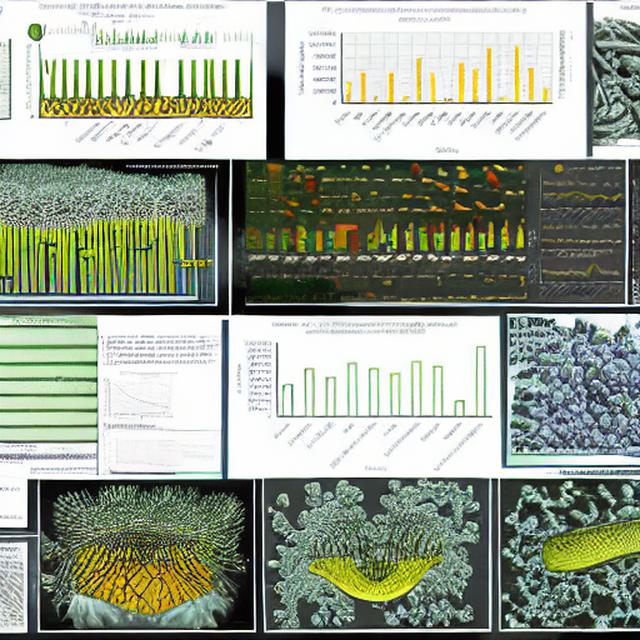Graph: (292, 1, 557, 158), (233, 318, 497, 475), (527, 246, 625, 304), (102, 369, 178, 422), (87, 15, 159, 57)
